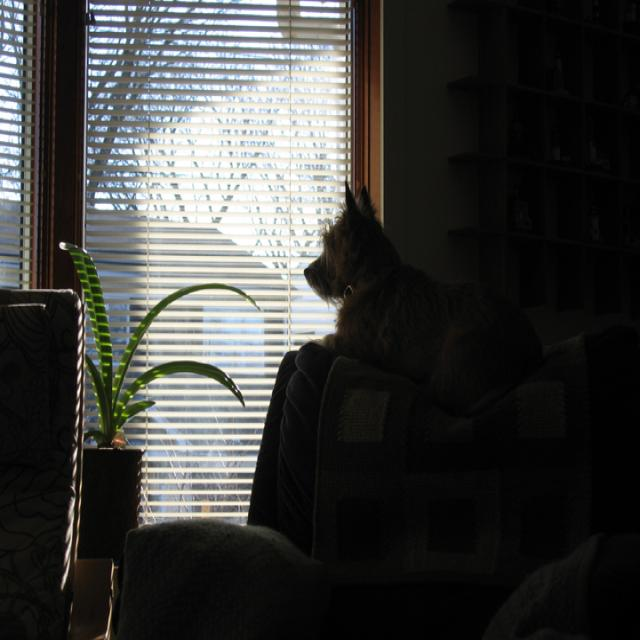Dog: (263, 209, 535, 523)
